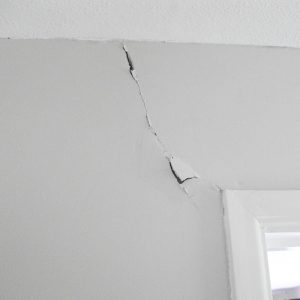crack: (121, 41, 198, 183)
